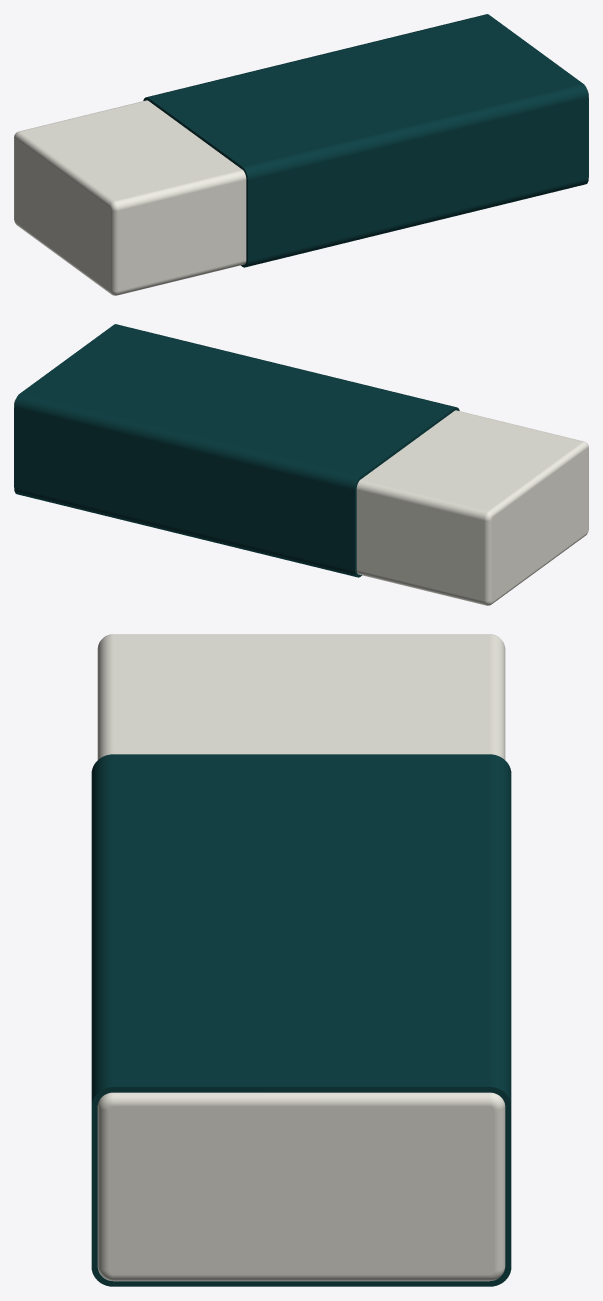
The picture shows the model from 3 angles, top to bottom: view 1: azimuth 30°, elevation 25°; view 2: azimuth 150°, elevation 25°; view 3: azimuth 270°, elevation 25°; orthographic projection. The views are drawn at different scales.
Parts seen in each view (by area): view 1: part_000_Sliding_sleeve, part_001_Eraser_core; view 2: part_000_Sliding_sleeve, part_001_Eraser_core; view 3: part_000_Sliding_sleeve, part_001_Eraser_core.
Part boxes in pixels (<box>): part_000_Sliding_sleeve: <box>143,14,588,267</box>; part_001_Eraser_core: <box>14,89,588,295</box>; part_000_Sliding_sleeve: <box>14,324,459,577</box>; part_001_Eraser_core: <box>14,399,588,605</box>; part_000_Sliding_sleeve: <box>91,754,511,1286</box>; part_001_Eraser_core: <box>97,634,505,1281</box>.
Size of the model in its own units: 0.063 by 0.0126 by 0.024.
